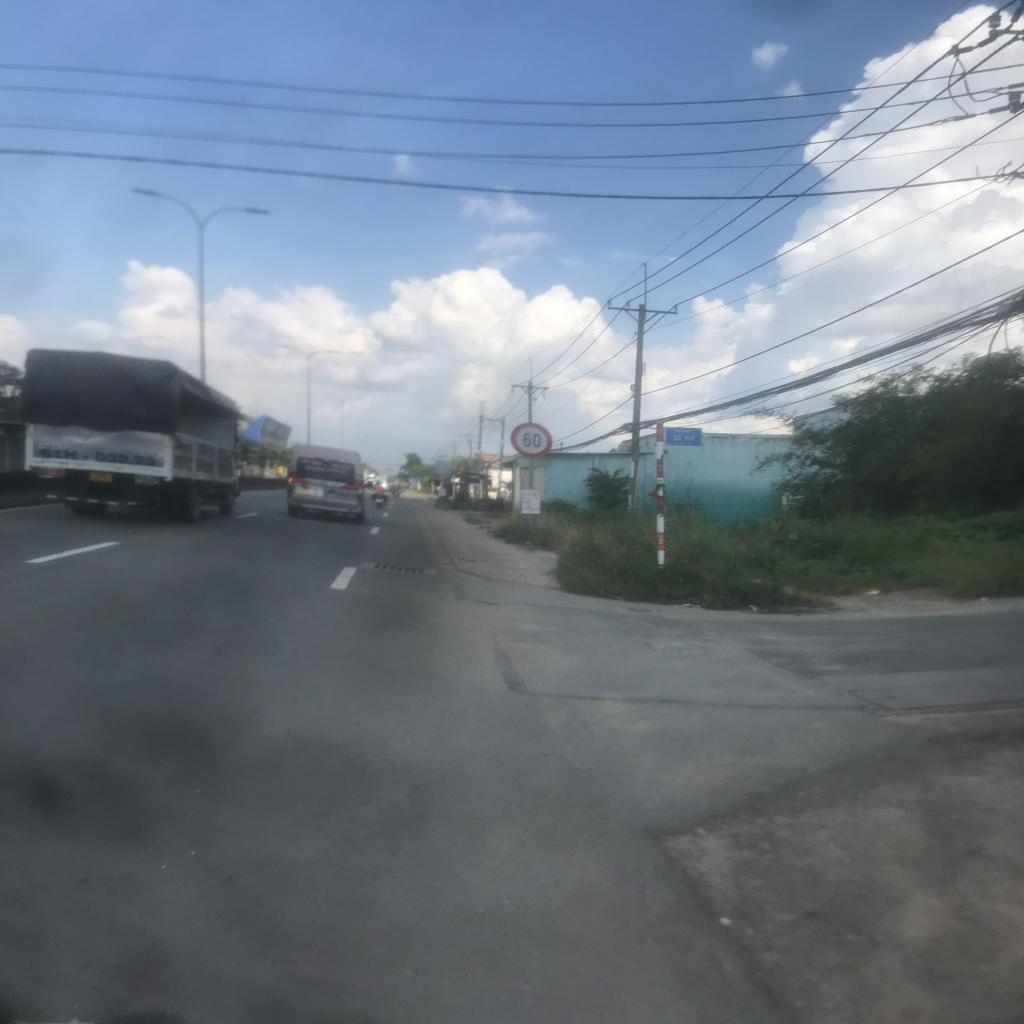toc_do_toi_da_60: (509, 421, 553, 458)
